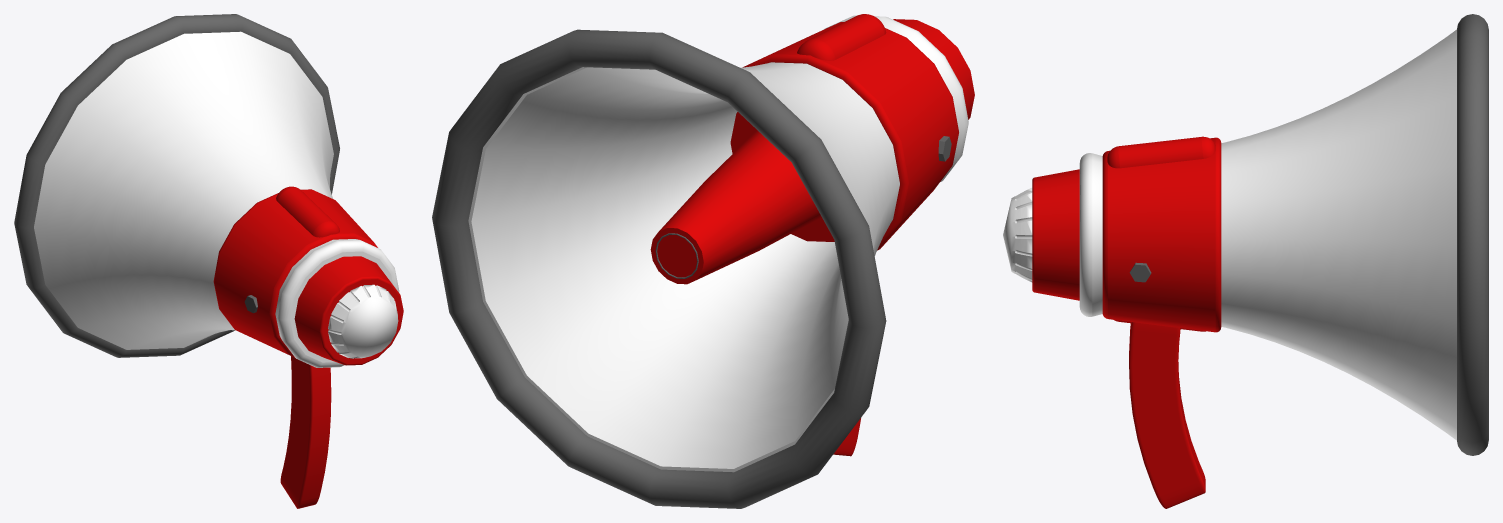
File: 大聲公.dae
3 views of the same model, side by side, from view 1: azimuth 30°, elevation 25°; view 2: azimuth 150°, elevation 25°; view 3: azimuth 270°, elevation 25° (orthographic). The views are drawn at different scales.
Parts seen in each view (by area): view 1: 连接 (×3), 圆环, 连接.1, 立方体, 连接.2; view 2: 圆柱 (×2), 圆环, 连接 (×2), 连接.1, 连接.2; view 3: 连接 (×3), 连接.1, 圆环, 立方体, 连接.2.
Boxes of the visible parts, <box> form: 连接 (×3): <box>34,31,403,367</box>; 圆环: <box>14,14,339,357</box>; 连接.1: <box>213,189,377,357</box>; 立方体: <box>280,356,331,508</box>; 连接.2: <box>276,186,339,237</box>; 圆柱 (×2): <box>471,67,848,468</box>; 圆环: <box>432,29,886,508</box>; 连接 (×2): <box>468,15,974,472</box>; 连接.1: <box>730,22,958,250</box>; 连接.2: <box>797,14,886,60</box>; 连接 (×3): <box>1003,29,1456,440</box>; 连接.1: <box>1102,137,1221,332</box>; 圆环: <box>1457,14,1488,455</box>; 立方体: <box>1129,322,1205,508</box>; 连接.2: <box>1107,136,1215,168</box>.
Size of the model in its own units: 6.04 by 7.07 by 6.63.
